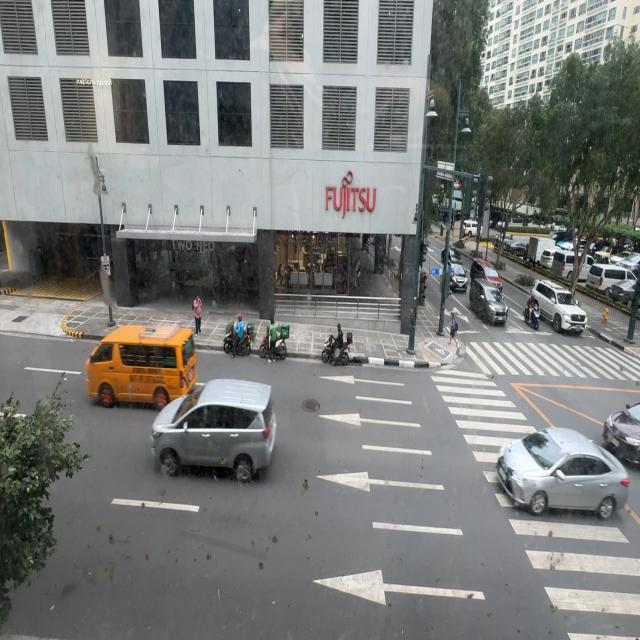crossing: (448, 312, 458, 346)
pedestrain: (192, 296, 202, 337)
